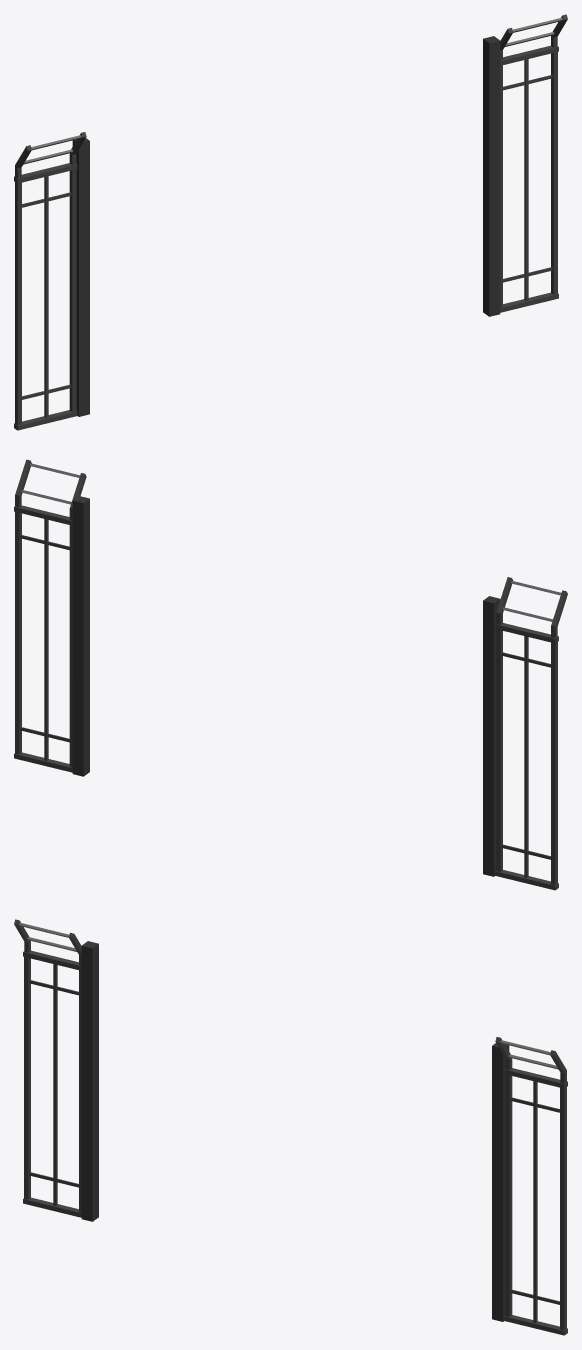
Rendered from SM_IndustrialProps_Fence_03.fbx.
3 views of the same model, one above another, from view 1: azimuth 30°, elevation 25°; view 2: azimuth 150°, elevation 25°; view 3: azimuth 330°, elevation 25° (orthographic).
Parts seen in each view (by area): view 1: SM_IndustrialProps_Fence_03; view 2: SM_IndustrialProps_Fence_03; view 3: SM_IndustrialProps_Fence_03.
Part boxes in pixels (bbox=[...]): SM_IndustrialProps_Fence_03: bbox=[14, 14, 567, 430]; SM_IndustrialProps_Fence_03: bbox=[14, 459, 567, 890]; SM_IndustrialProps_Fence_03: bbox=[14, 919, 567, 1335].
Bounding box in the file's own units: 5 × 2.56 × 0.2333.
